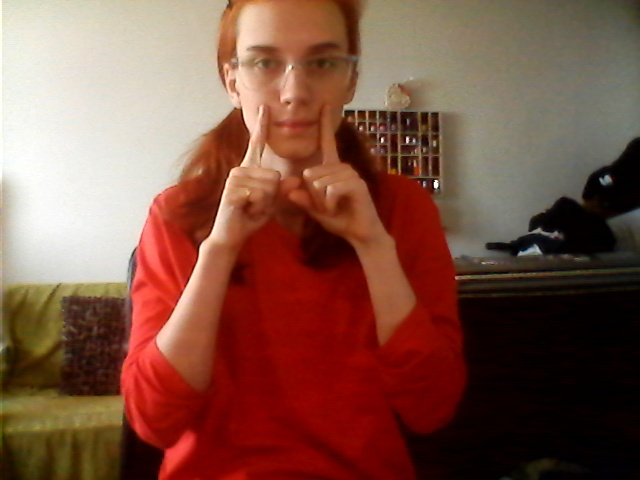h: (229, 103, 370, 239)
